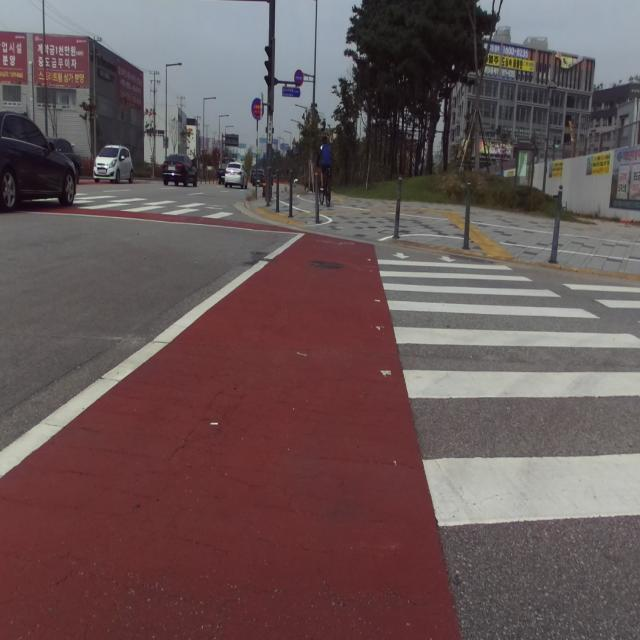횡단보도: (378, 253, 640, 526), (71, 192, 245, 221)
